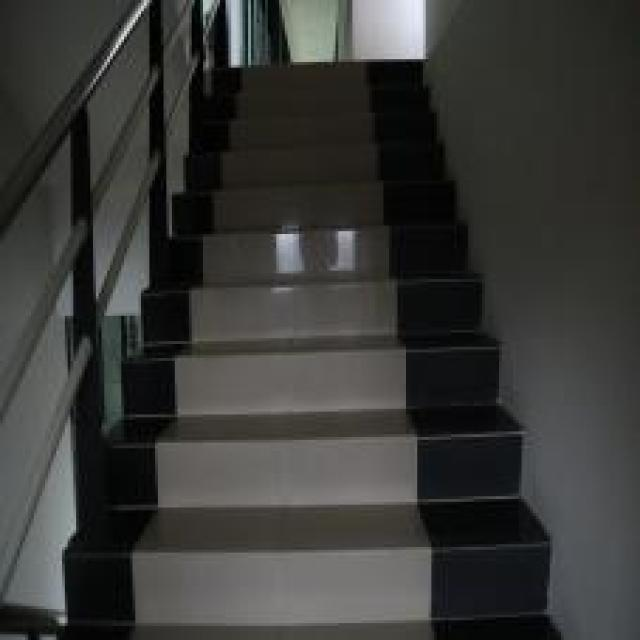upstair: (207, 66, 466, 638)
